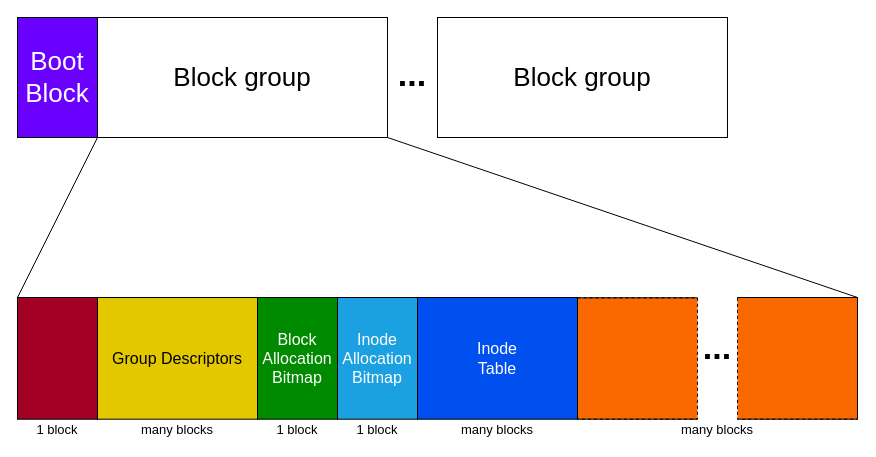
Image size: 876x457. Some labels were removed from this diagram. The centre of each missing label's shape, as x and y in pixels:
"Data Blocks" belongs at point 637,358.
"Super Block" belongs at point 57,357.
